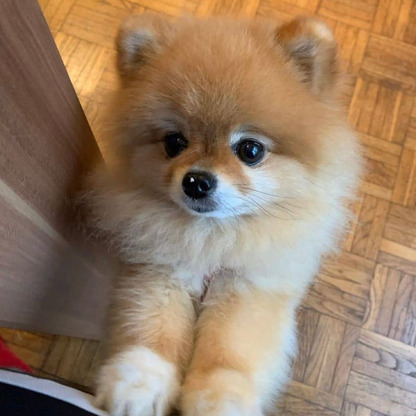Pomeranian: (95, 17, 344, 395)
